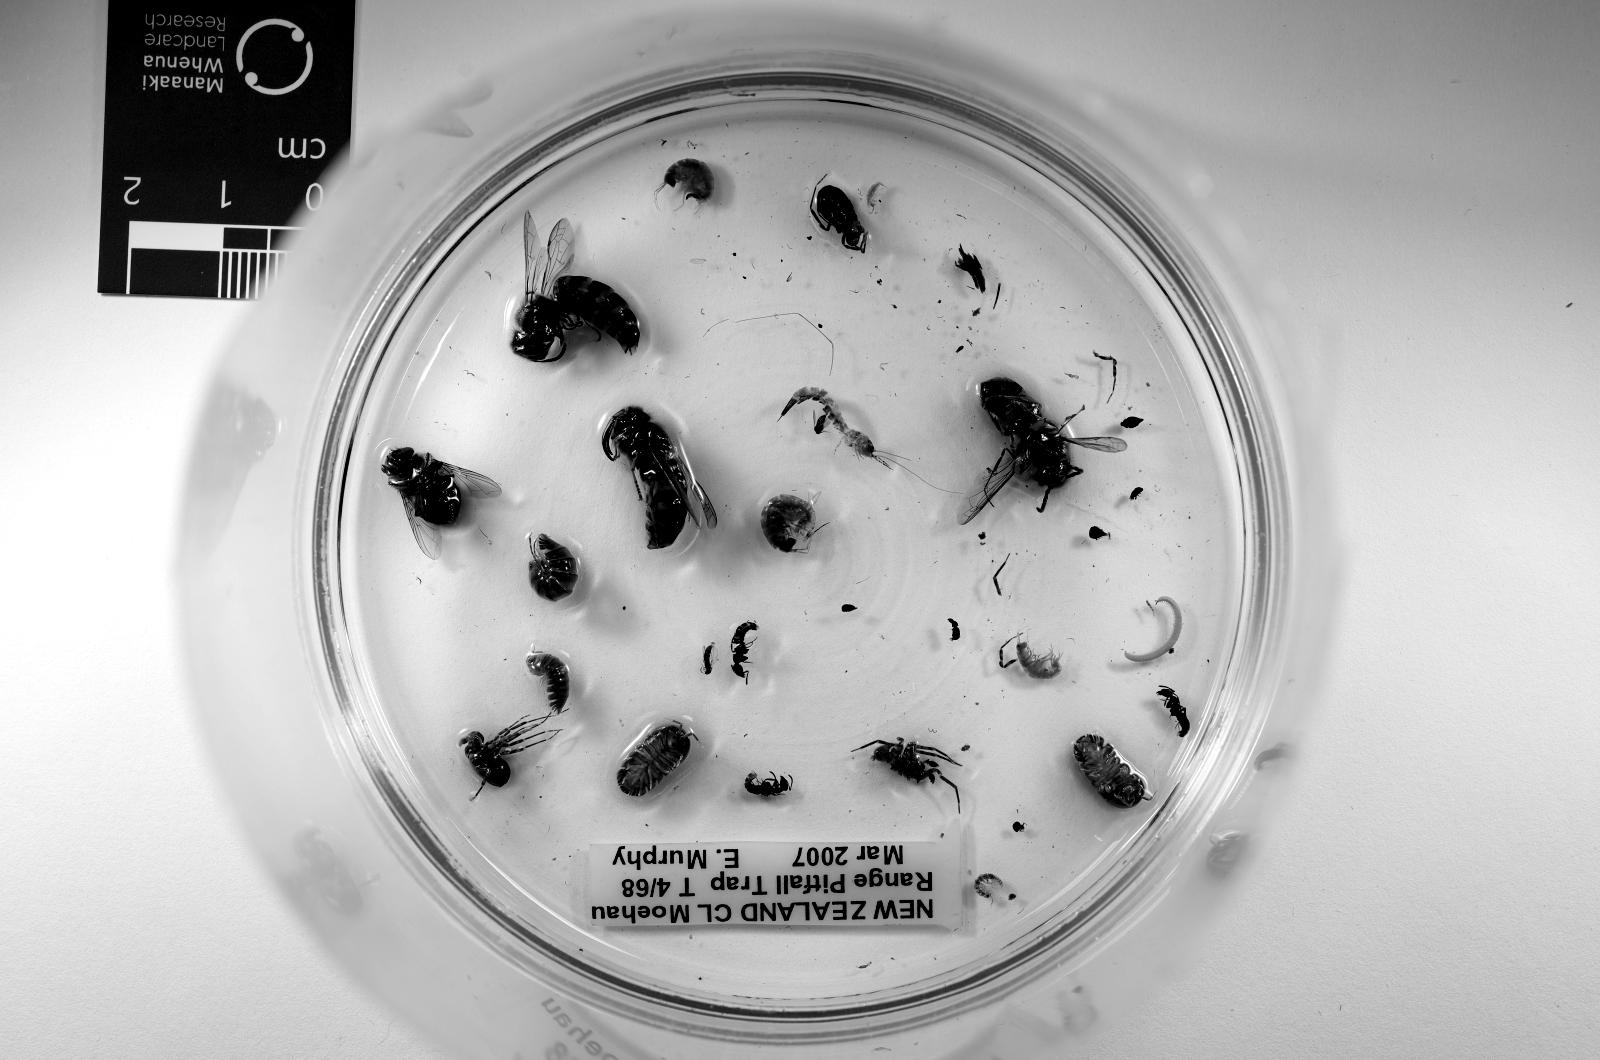amphipoda: (759, 494, 819, 553), (662, 158, 716, 205), (1016, 640, 1062, 680)
araneae: (856, 736, 962, 807)
archaeognatha: (781, 388, 897, 466)
coleoptera: (1122, 416, 1144, 429)
diplopoda: (1125, 596, 1184, 665)
diptera: (381, 447, 500, 559), (703, 643, 716, 674), (812, 410, 828, 435)
formicidae: (1156, 686, 1191, 736), (731, 621, 759, 683), (744, 773, 791, 798)
isopoda: (616, 724, 691, 798), (1075, 736, 1153, 807), (528, 534, 578, 602), (525, 652, 569, 714), (972, 873, 1003, 897)
opiliones: (459, 717, 559, 786), (809, 183, 866, 252)
vespidae: (956, 376, 1125, 525), (509, 214, 641, 363), (603, 407, 719, 550)
